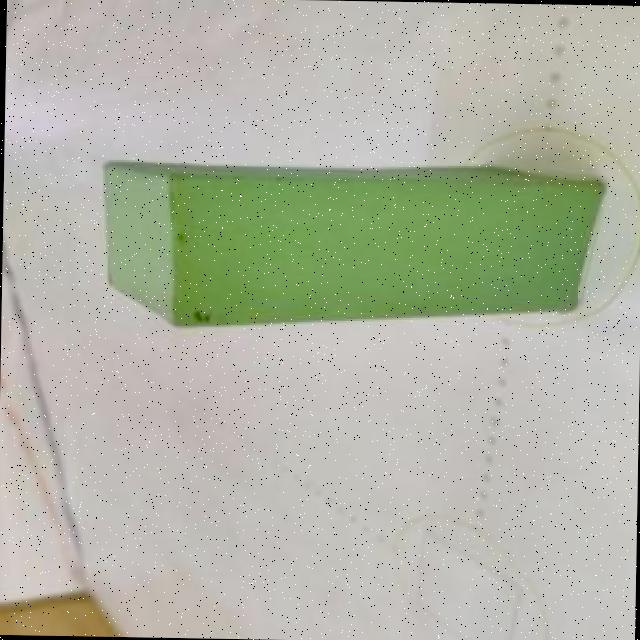greenbox: (97, 150, 610, 334)
